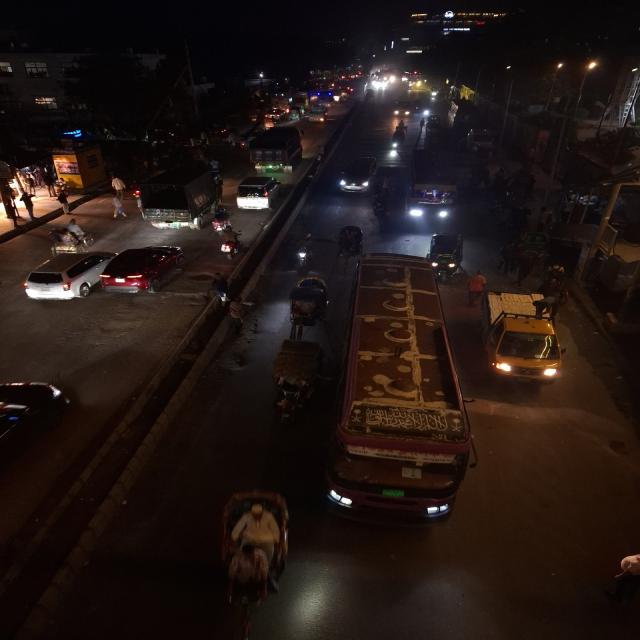bus: (332, 254, 481, 528)
car: (0, 375, 77, 500), (19, 248, 114, 304), (96, 242, 187, 294), (233, 173, 286, 211), (335, 154, 380, 196), (310, 111, 330, 125)
cng: (133, 166, 223, 232), (427, 231, 466, 281), (391, 98, 414, 120)
motorcycle: (289, 232, 318, 272), (217, 226, 244, 262), (208, 206, 234, 236), (386, 126, 408, 154)
pedestrian: (466, 269, 488, 306), (106, 186, 130, 218), (53, 188, 78, 214)
pickup_van: (482, 286, 569, 386)
rickshaw: (213, 486, 296, 634), (266, 336, 323, 426), (284, 276, 327, 334), (511, 230, 553, 269), (44, 223, 92, 257), (335, 223, 366, 263)
truck: (406, 146, 464, 228), (246, 126, 306, 174)
